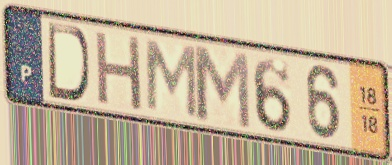6: (250, 55, 294, 135), (304, 64, 342, 142)
D: (46, 19, 92, 104)
H: (93, 28, 145, 115)
M: (189, 41, 253, 133), (144, 37, 200, 122)
